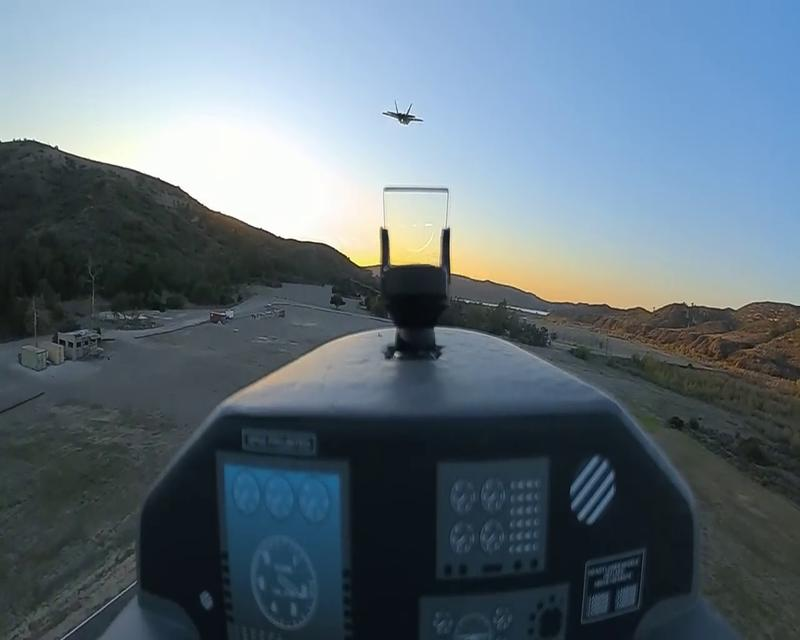UAV: (382, 98, 424, 127)
